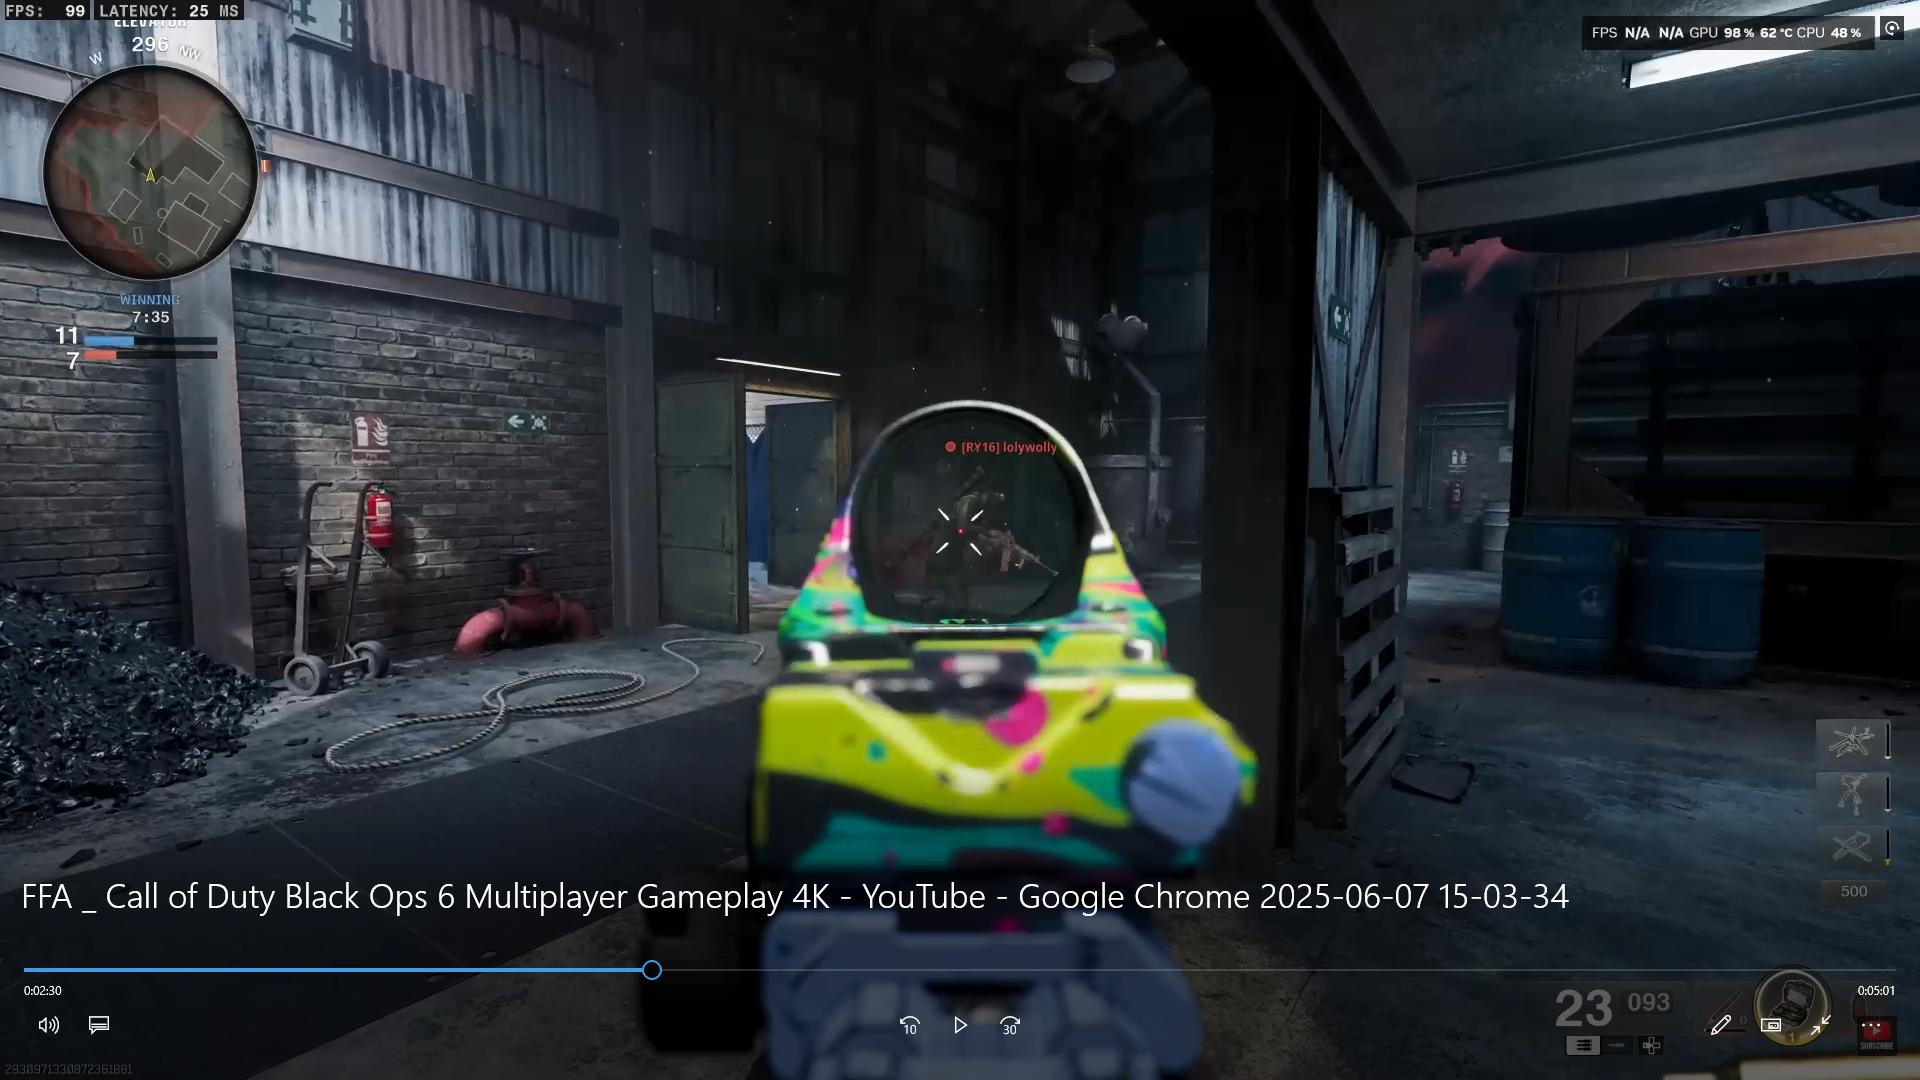Enemy: (923, 468, 1011, 608)
